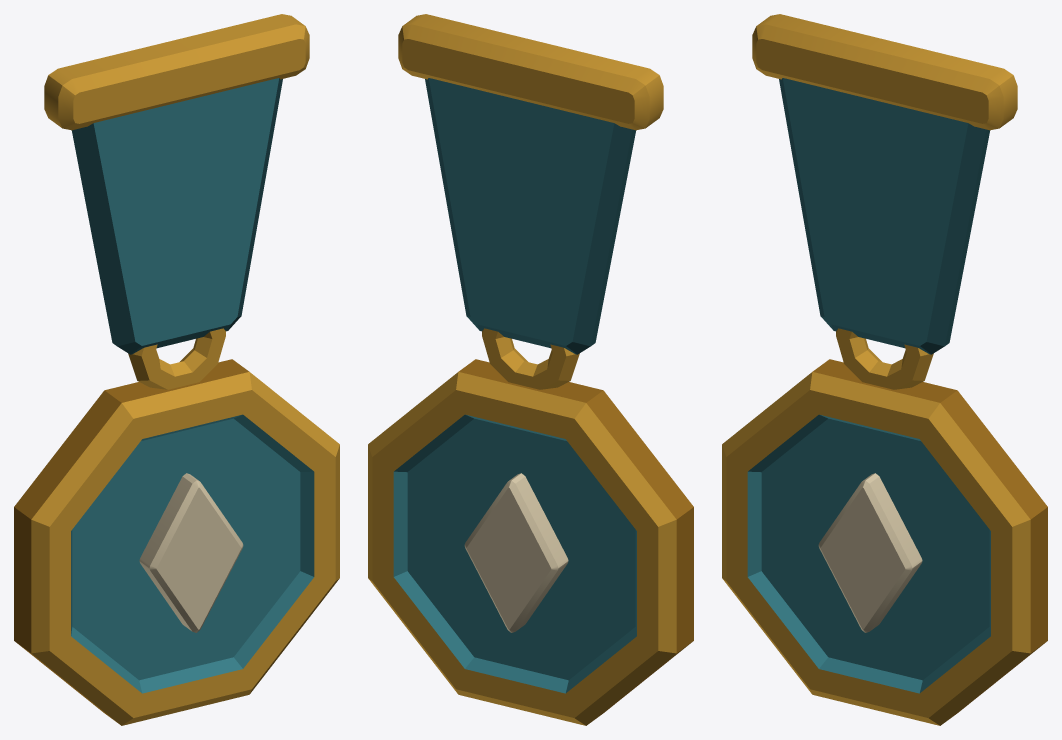
Rendered from Medal_33.glb.
3 renders of one model, left to right at view 1: azimuth 30°, elevation 25°; view 2: azimuth 150°, elevation 25°; view 3: azimuth 330°, elevation 25°, orthographic.
Parts seen in each view (by area): view 1: Medal_33; view 2: Medal_33; view 3: Medal_33.
Part boxes in pixels (x1,y1,x2,y2): Medal_33: [14, 14, 339, 725]; Medal_33: [368, 14, 693, 725]; Medal_33: [722, 14, 1047, 725].
Bounding box in the file's own units: 1.13 × 2.31 × 0.28.
